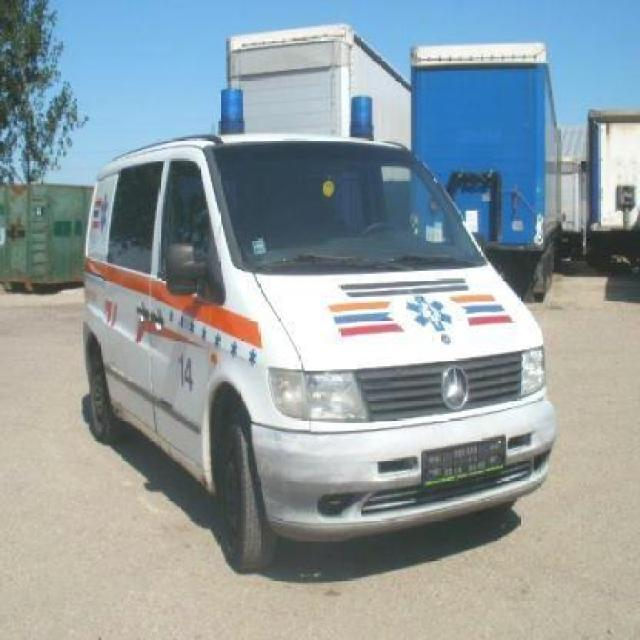emergency: (79, 88, 557, 572)
